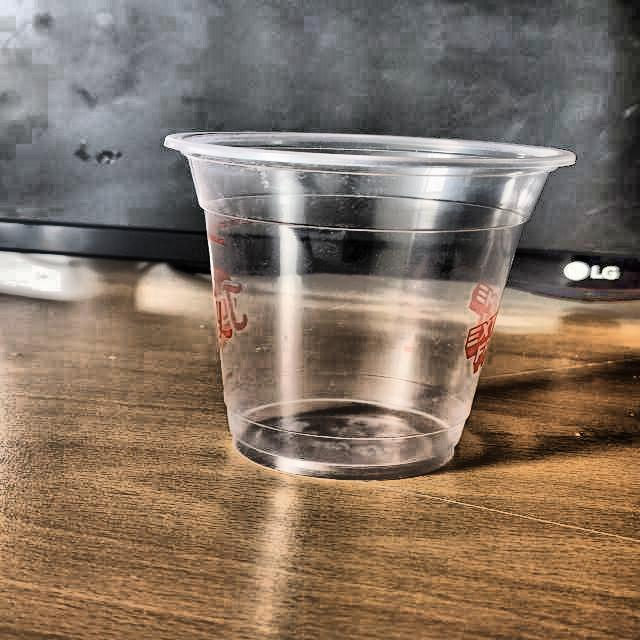plastic cup: (163, 126, 577, 482)
